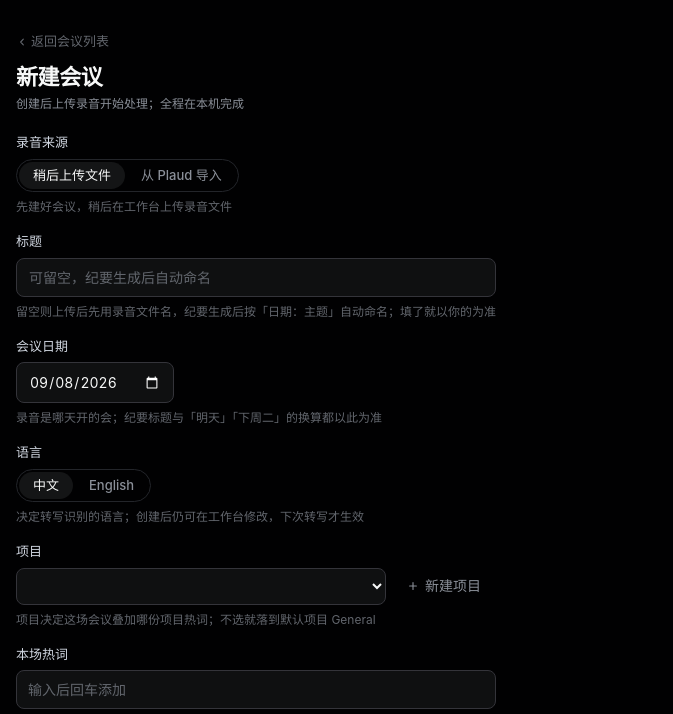
新建会议 · 从 Plaud 导入 › 导入失败：错误显示在表单上，不跳转
Click the button "从 Plaud 导入": (181, 176) [127, 162, 236, 189]
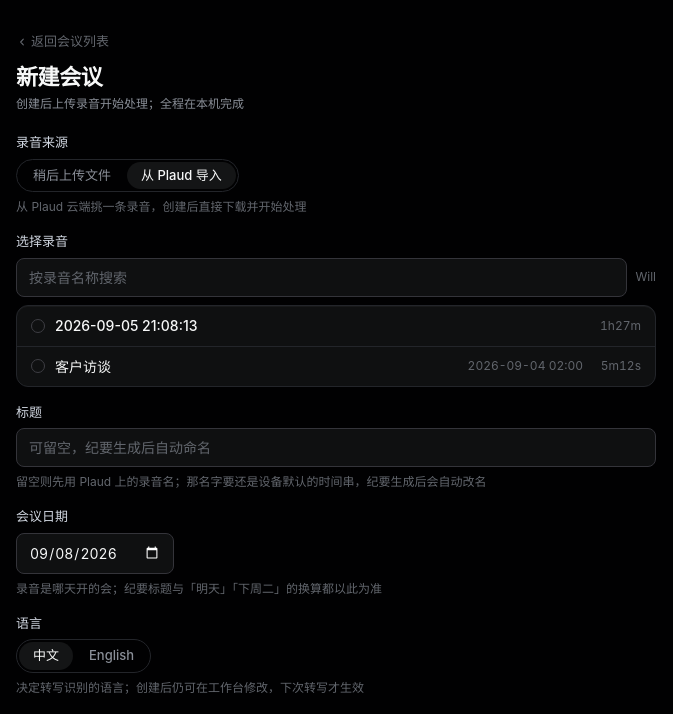
Click the radio button labelled "客户访谈 2026-09-04 02:00 5m12s": (83, 366) [17, 346, 655, 386]
(page scrolled)
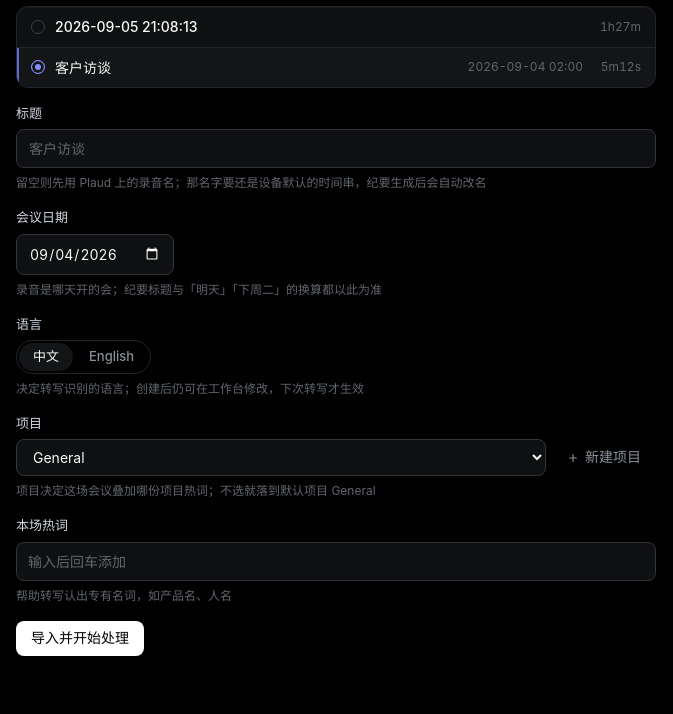
Click the button "导入并开始处理": (80, 638) [16, 621, 144, 656]
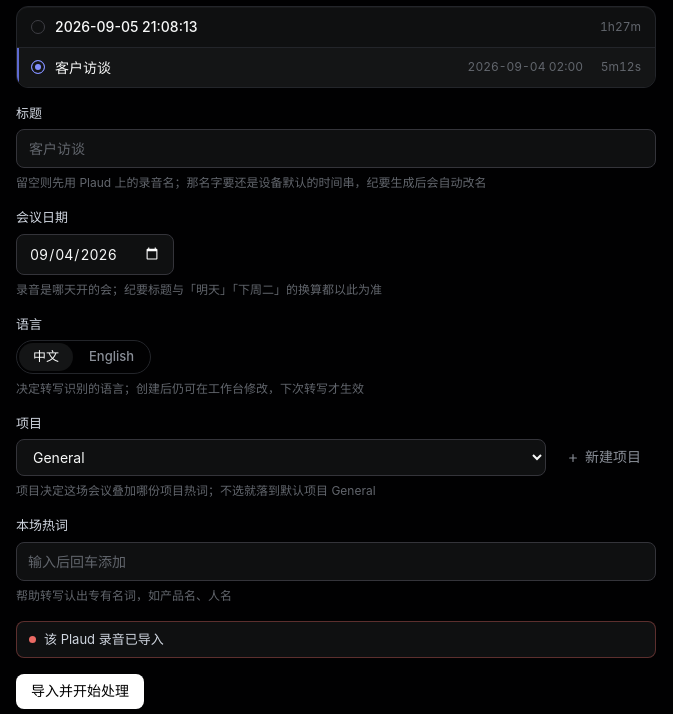
expect the text "该 Plaud 录音已导入" is shown: met, box [16, 621, 656, 658]
